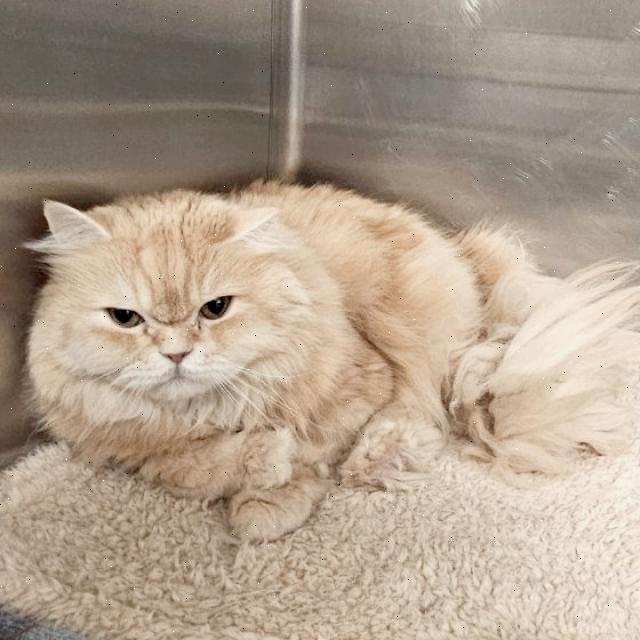persian_cat: (26, 169, 326, 441)
